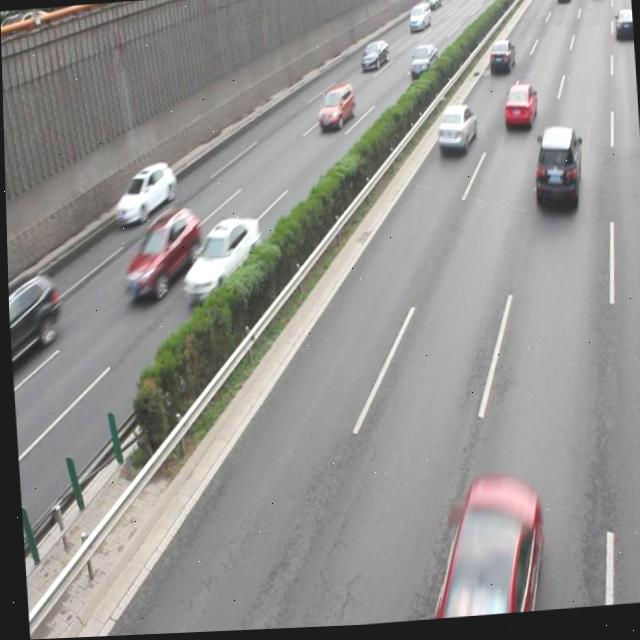car: (418, 471, 544, 623), (178, 218, 262, 309), (119, 205, 202, 297), (6, 268, 63, 379), (529, 127, 581, 219), (110, 160, 178, 225), (433, 106, 476, 158), (313, 85, 353, 134), (500, 85, 536, 136), (485, 42, 514, 80), (407, 46, 437, 82)
